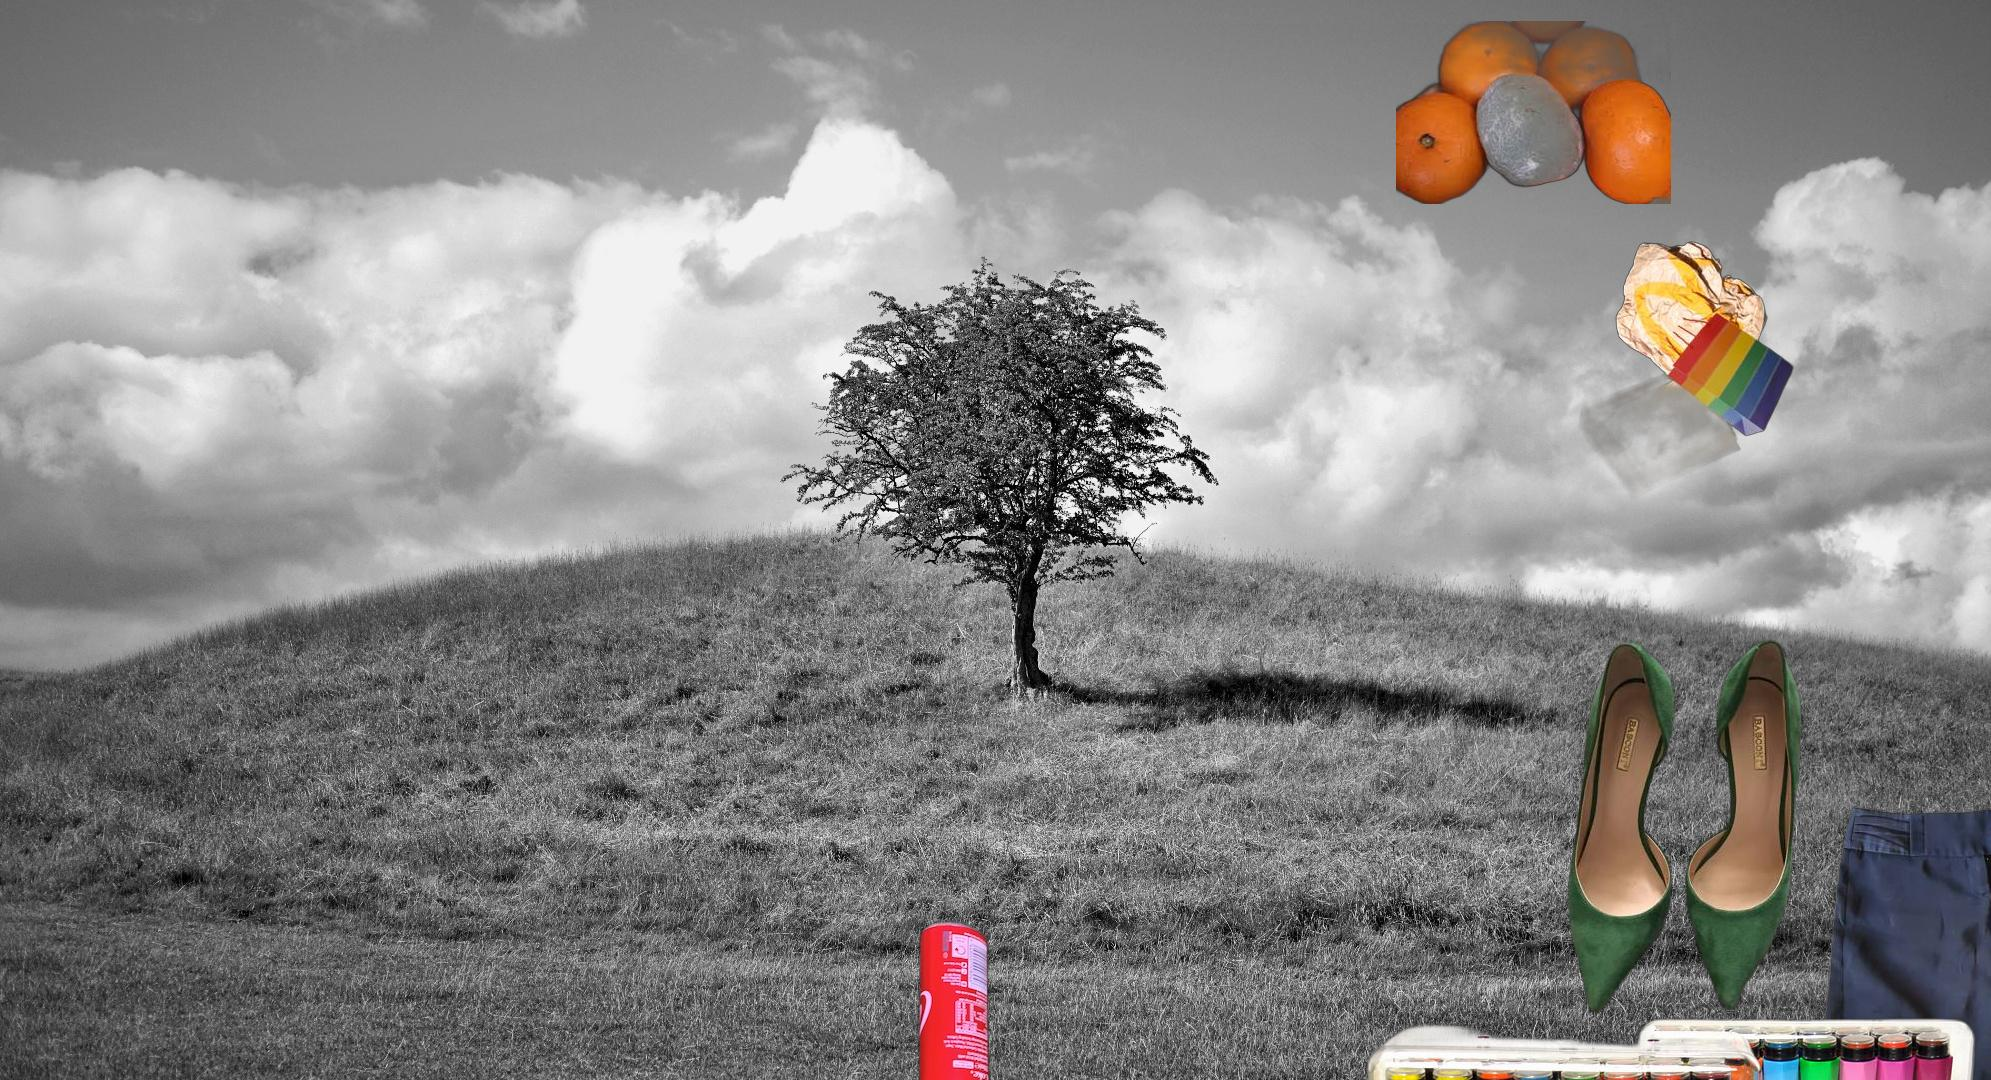biological: (1396, 21, 1670, 203)
clothes: (1801, 795, 1991, 1080)
metal-cans: (912, 916, 994, 1080)
paper-bag: (1577, 241, 1795, 501)
penholder: (1361, 1006, 1982, 1080)
shoes: (1565, 630, 1803, 1017)
